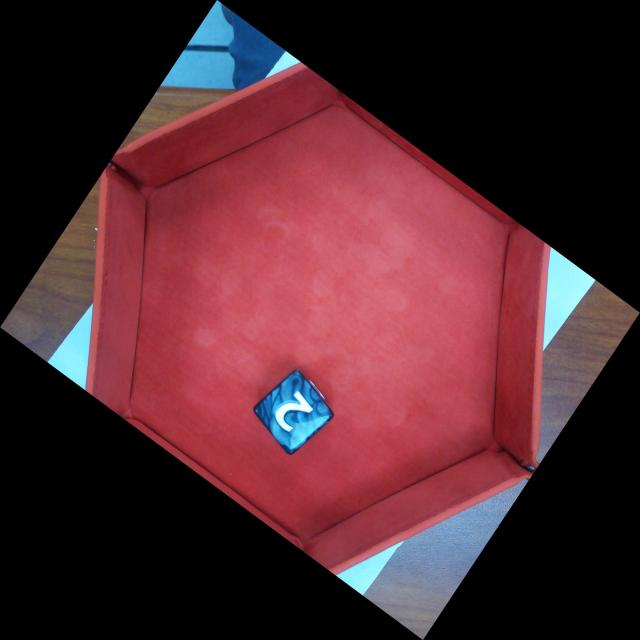dice: (254, 370, 334, 456)
